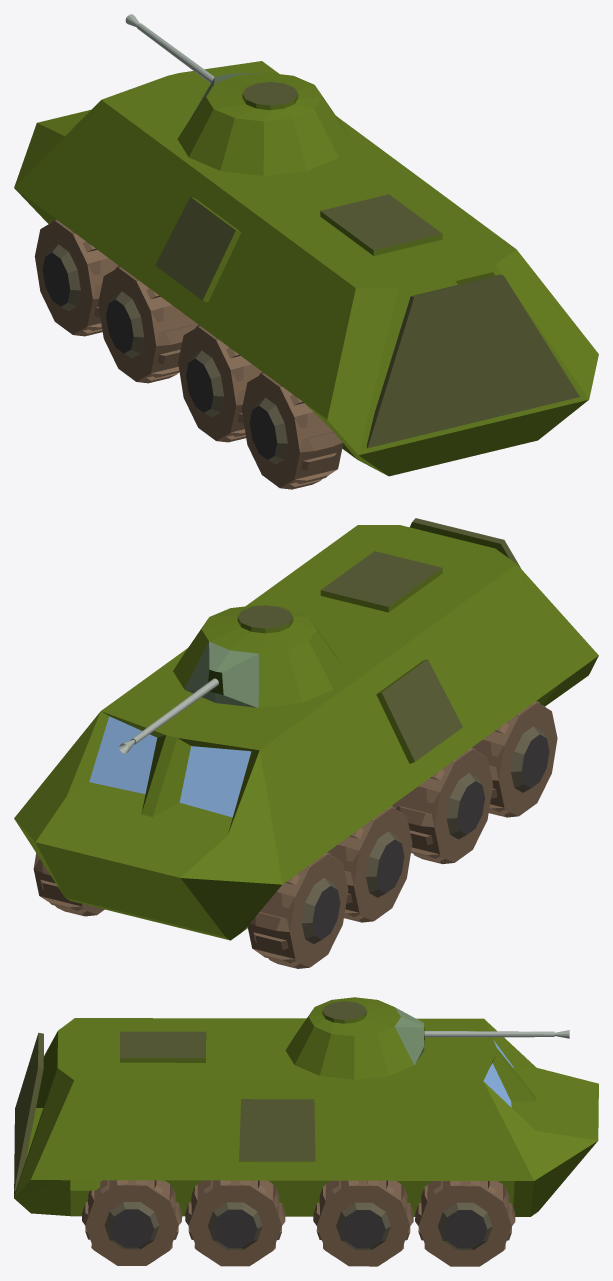
File: BTR5.fbx
3 renders of one model, top to bottom at view 1: azimuth 30°, elevation 25°; view 2: azimuth 150°, elevation 25°; view 3: azimuth 270°, elevation 25°, orthographic. The views are drawn at different scales.
Parts seen in each view (by area): view 1: BTRrunko, Rengas.010, BtrPiippu; view 2: BTRrunko, Rengas.010, BtrPiippu, Rengas.003; view 3: BTRrunko, Rengas.003, BtrPiippu.
Boxes of the visible parts, x1,y1,x2,y2 form: BTRrunko: [14, 61, 598, 476]; Rengas.010: [34, 219, 343, 489]; BtrPiippu: [125, 14, 350, 175]; BTRrunko: [14, 518, 598, 940]; Rengas.010: [247, 701, 557, 968]; BtrPiippu: [119, 605, 345, 753]; Rengas.003: [33, 853, 104, 916]; BTRrunko: [14, 1018, 598, 1216]; Rengas.003: [82, 1180, 515, 1266]; BtrPiippu: [285, 997, 569, 1079].
Bounding box in the file's own units: 339 × 309 × 784.
